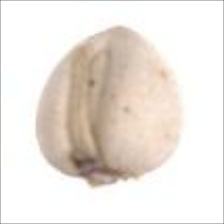L5: (66, 43, 124, 167), (59, 163, 145, 192), (78, 21, 150, 45)
L6: (32, 22, 185, 192)
